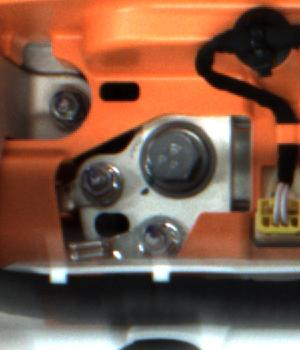nut_b: (138, 121, 223, 201)
screw_s: (135, 215, 186, 261), (81, 157, 121, 201), (44, 84, 84, 123)
